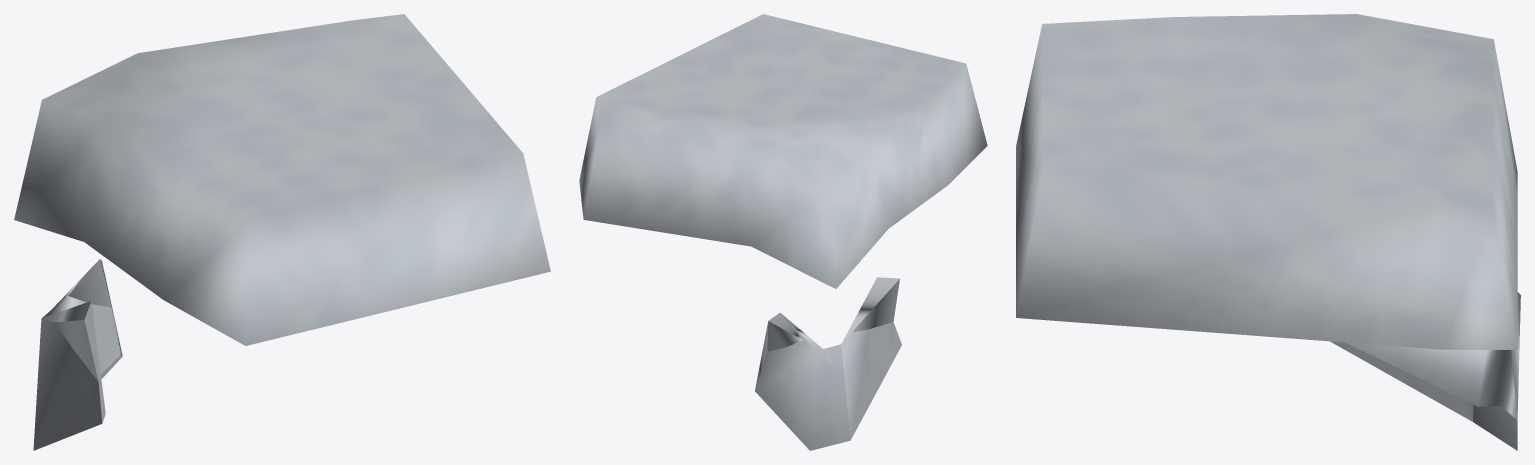
File: Temple_Stone_8_Snow.fbx
3 renders of one model, left to right at view 1: azimuth 30°, elevation 25°; view 2: azimuth 150°, elevation 25°; view 3: azimuth 270°, elevation 25°, orthographic. The views are drawn at different scales.
Visible parts, largest first — view 1: Temple_Stone_8_Snow; view 2: Temple_Stone_8_Snow; view 3: Temple_Stone_8_Snow.
Boxes of the visible parts, x1,y1,x2,y2 form: Temple_Stone_8_Snow: (14,14,550,450); Temple_Stone_8_Snow: (579,14,987,450); Temple_Stone_8_Snow: (1016,14,1520,450).
Bounding box in the file's own units: 51 × 47.25 × 50.33.
